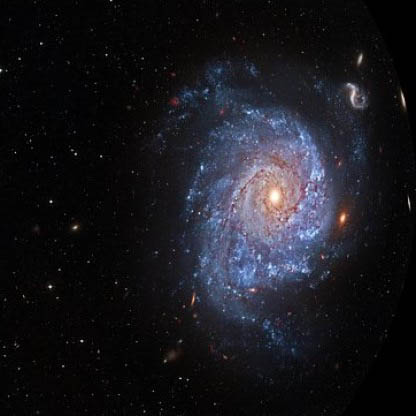NGC 1309: (148, 45, 379, 356)
